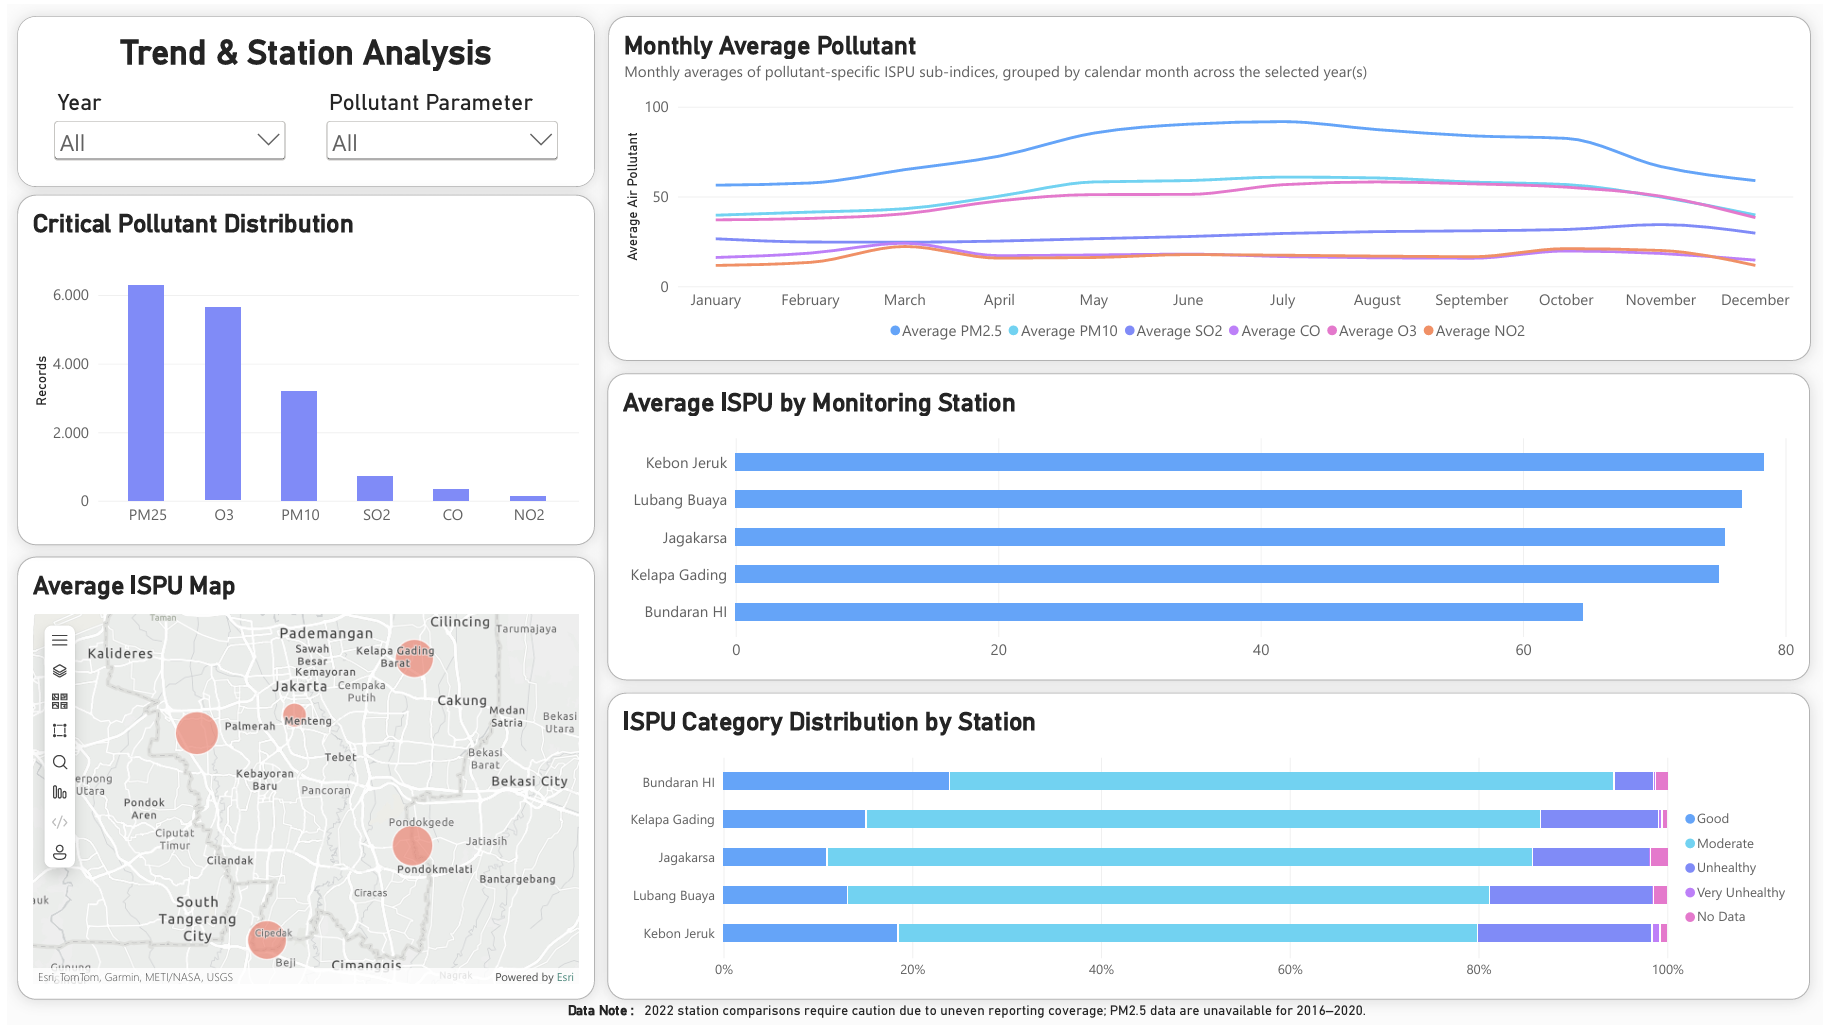

What the dashboard file says about the page in this screenshot:
{"tool":"powerbi","page":{"name":"Trends & Station Analysis","canvas":[1920,1080],"ordinal":1},"visuals":[{"type":"shape","box":[10,11.7,611.3,180.9],"z":0},{"type":"lineChart","title":"Monthly Average Pollutant","fields":{"Category":["date.month"],"Y":["air_quality.Average PM2.5","air_quality.Average PM10","air_quality.Average SO2","air_quality.Average CO","air_quality.Average O3","air_quality.Average NO2"]},"box":[634.7,11.7,1272.2,365],"z":1000},{"type":"barChart","title":"Average ISPU by Monitoring Station","fields":{"Category":["air_quality.station_location"],"Y":["air_quality.Average ISPU"]},"box":[634,389.5,1272.2,325.3],"z":2000},{"type":"slicer","fields":{"Values":["date.year"]},"box":[44,89.3,255.4,88],"z":3000},{"type":"hundredPercentStackedBarChart","title":"ISPU Category Distribution by Station","fields":{"Category":["air_quality.station_location"],"Series":["air_quality.category_revised"],"Y":["air_quality.Total Records"]},"box":[634,728,1272.2,325.3],"z":4000},{"type":"slicer","fields":{"Values":["Air Polllutant Parameter.Air Polllutant Parameter"]},"box":[332,89.3,255.4,88],"z":5000},{"type":"esriVisual","title":"Average ISPU Map","fields":{"Color":["air_quality.Average ISPU Category"],"Latitude":["station_coordinates.latitude"],"Longitude":["station_coordinates.longitude"],"Size":["air_quality.Average ISPU"]},"box":[10,583.6,611.3,469.8],"z":6000},{"type":"clusteredColumnChart","title":"Critical Pollutant Distribution","fields":{"Category":["air_quality.critical"],"Y":["air_quality.Valid Records"]},"box":[10,201.3,611.3,370.6],"z":7000},{"type":"textbox","title":"Trend & Station Analysis","box":[100,28.8,431.4,54.1],"z":8000},{"type":"textbox","title":"2022 station comparisons require caution due to uneven reporting coverage; PM2.5 data are unavailable for 2016–2020.","box":[668.2,1056.3,767.4,23.3],"z":9000},{"type":"textbox","title":"Data Note :","box":[592.3,1056.3,75.9,23.3],"z":10000}]}

Visuals, with their boxes in screenshot pixels (x1, y1, x2, y2), scaled from the page's 1920x1080 canvas onto the 1835x1025 screenshot:
shape: [x1=10, y1=11, x2=594, y2=183]
"Monthly Average Pollutant" lineChart: [x1=607, y1=11, x2=1822, y2=358]
"Average ISPU by Monitoring Station" barChart: [x1=606, y1=370, x2=1822, y2=678]
slicer - date.year: [x1=42, y1=85, x2=286, y2=168]
"ISPU Category Distribution by Station" hundredPercentStackedBarChart: [x1=606, y1=691, x2=1822, y2=1000]
slicer - Air Polllutant Parameter.Air Polllutant Parameter: [x1=317, y1=85, x2=561, y2=168]
"Average ISPU Map" esriVisual: [x1=10, y1=554, x2=594, y2=1000]
"Critical Pollutant Distribution" clusteredColumnChart: [x1=10, y1=191, x2=594, y2=543]
"Trend & Station Analysis" textbox: [x1=96, y1=27, x2=508, y2=79]
"2022 station comparisons require caution due to uneven reporting coverage; PM2.5 data are unavailable for 2016–2020." textbox: [x1=639, y1=1003, x2=1372, y2=1024]
"Data Note :" textbox: [x1=566, y1=1003, x2=639, y2=1024]
